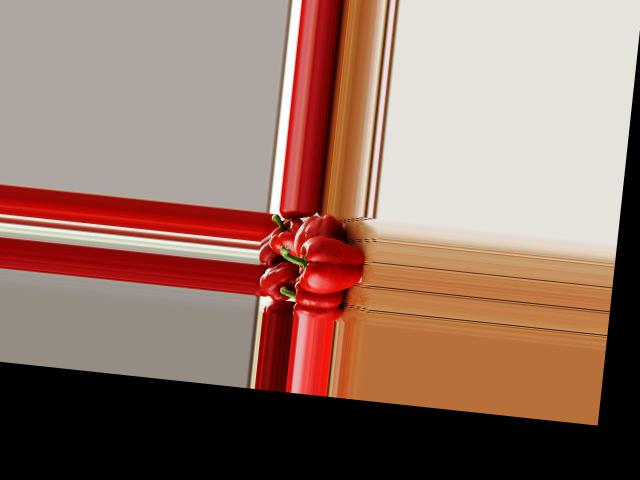bell_pepper: (266, 211, 305, 257)
